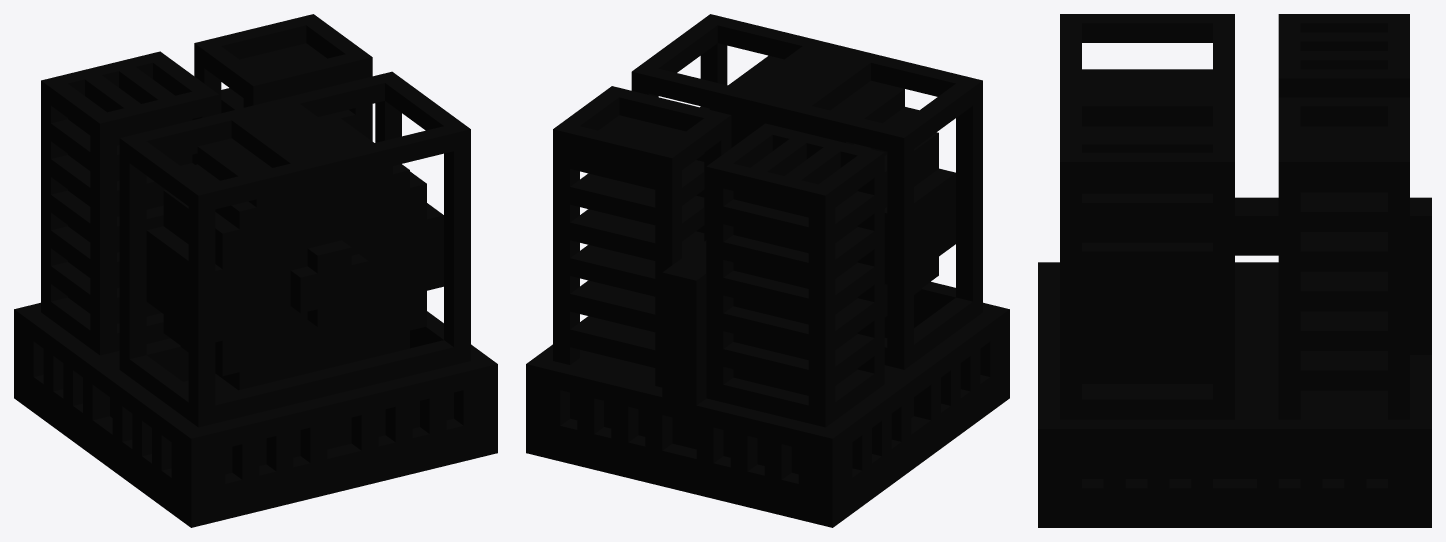
The model's file is dataBank.obj.
3 views of the same model, side by side, from view 1: azimuth 30°, elevation 25°; view 2: azimuth 150°, elevation 25°; view 3: azimuth 270°, elevation 25° (orthographic). The views are drawn at different scales.
Parts seen in each view (by area): view 1: Data_Bank; view 2: Data_Bank; view 3: Data_Bank.
Part boxes in pixels (x1,y1,x2,y2): Data_Bank: [14, 14, 497, 527]; Data_Bank: [526, 14, 1009, 527]; Data_Bank: [1038, 14, 1431, 527].
Size of the model in its own units: 18 by 18 by 18.
